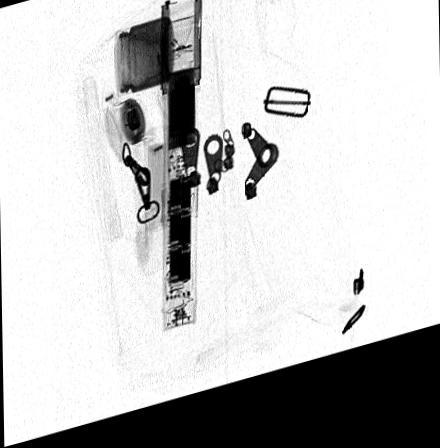Baton: (157, 0, 202, 341)
